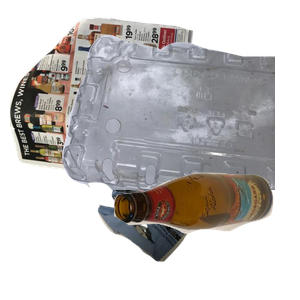glass: (111, 170, 300, 300)
paper: (10, 15, 196, 195)
plastic: (60, 32, 300, 212)
trash: (95, 157, 282, 300)
